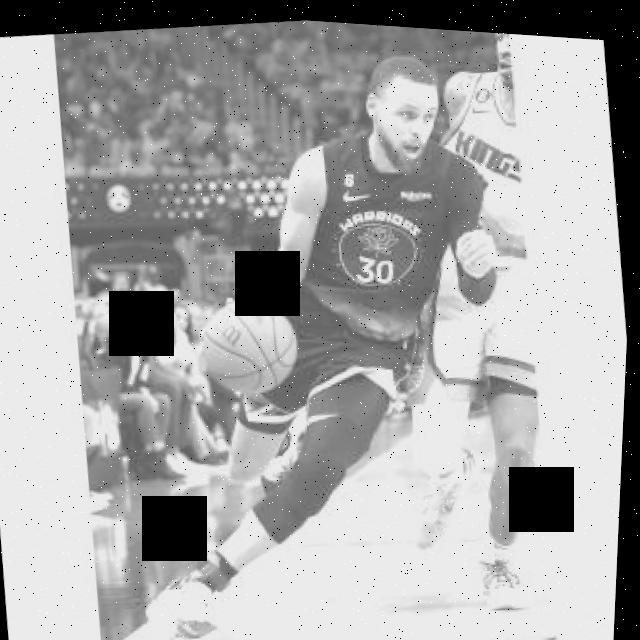shoe: (409, 431, 495, 548), (143, 567, 229, 640), (480, 533, 541, 606)
